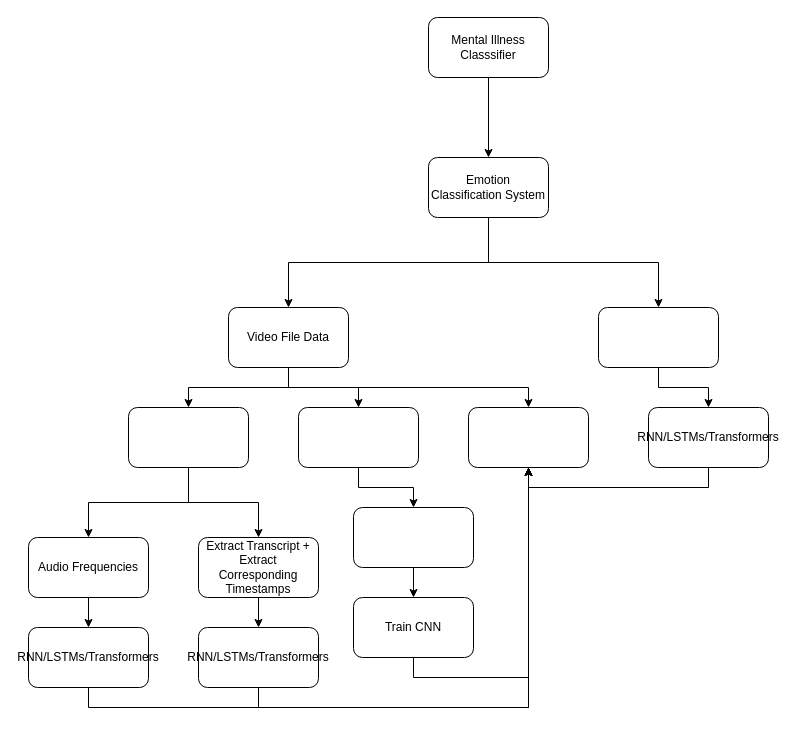
Image size: 796x733. Some labels were removed from this diagram. The centre of each missing label's shape, as x and y in pixels:
Audio Data: point (188, 437)
EEG Data: point (658, 337)
Emotion Annotations Video Data: point (528, 437)
Image (Video Frame) Data: point (358, 437)
Object Detection Model to localize on individual's face: point (413, 537)
